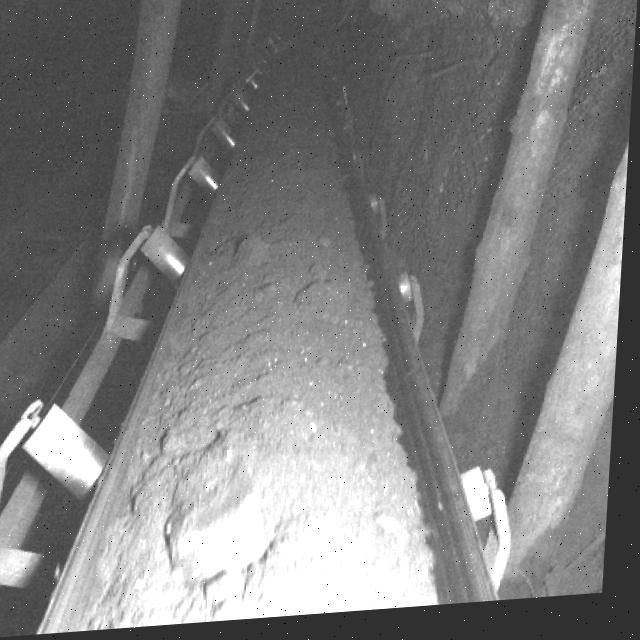large_sized_coal: (170, 486, 279, 587), (207, 571, 256, 607)
